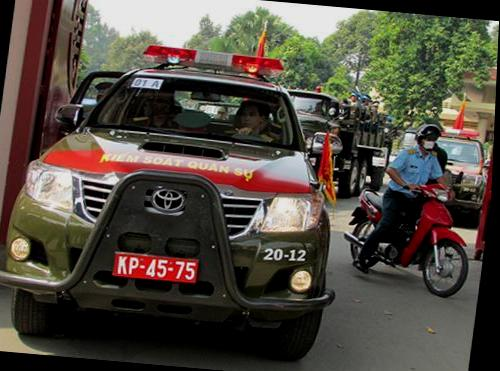License_Plate: (112, 249, 195, 286)
